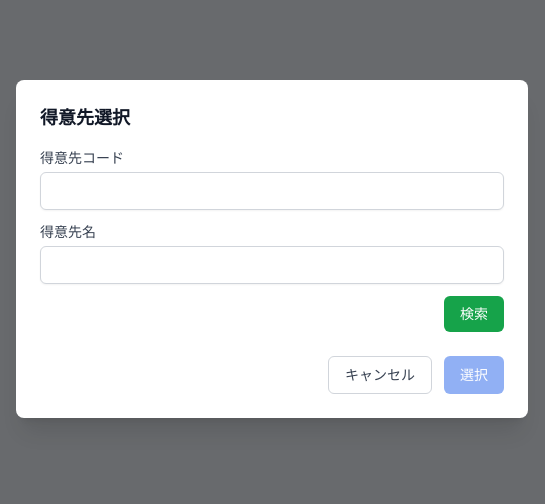
Test: CustomerSelectDialog › 検索機能 › 検索結果が表示される
Step 1. Click the button "検索" → (474, 314), box x1=444 y1=296 x2=504 y2=332
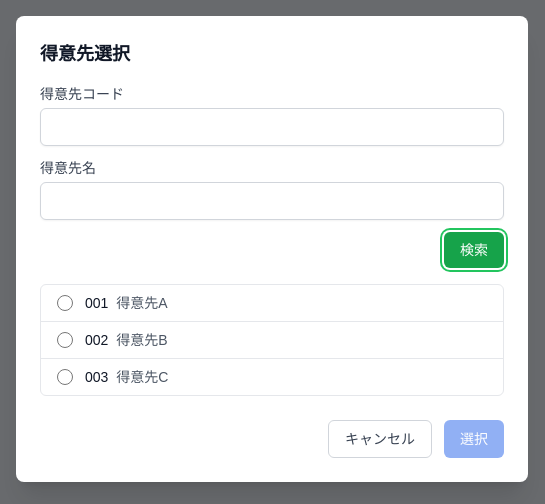
Now the text "001" is shown, box x1=85 y1=293 x2=108 y2=313
Now the text "得意先A" is shown, box x1=116 y1=293 x2=168 y2=313
Now the text "002" is shown, box x1=85 y1=330 x2=108 y2=350
